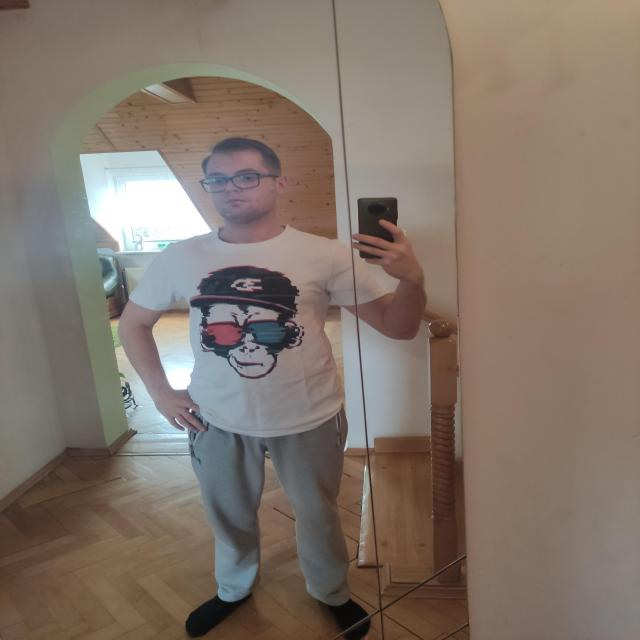Tshirt: (125, 224, 396, 436)
pants: (185, 408, 351, 608)
